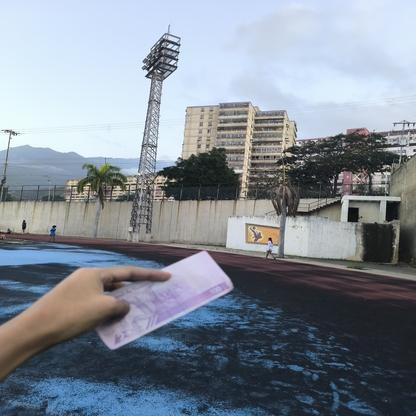one_hundred-back-vef: (93, 250, 235, 350)
